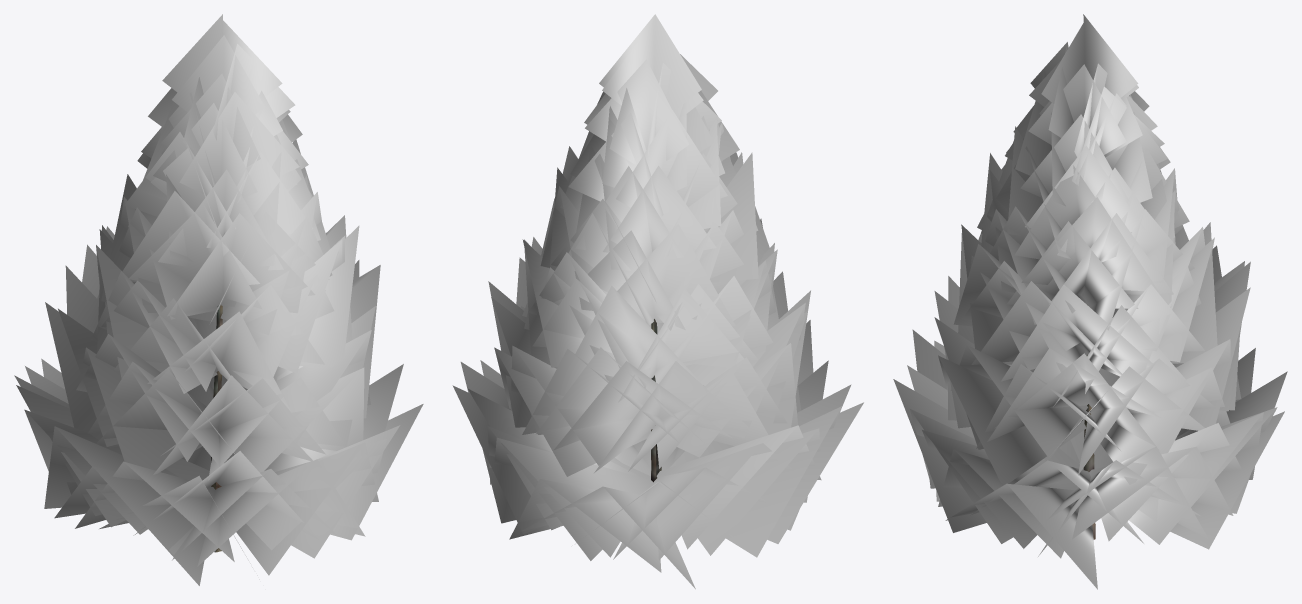
File: fir.glb
3 views of the same model, side by side, from view 1: azimuth 30°, elevation 25°; view 2: azimuth 150°, elevation 25°; view 3: azimuth 270°, elevation 25° (orthographic). The views are drawn at different scales.
Visible parts, largest first — view 1: fir; view 2: fir; view 3: fir.
Part boxes in pixels (box(x1,y1,x2,y2)): fir: box(14, 14, 423, 585); fir: box(452, 14, 863, 589); fir: box(893, 14, 1287, 589).
Size of the model in its own units: 3.31 by 4.91 by 3.34.
Materials: 2 (1 with a texture image).
